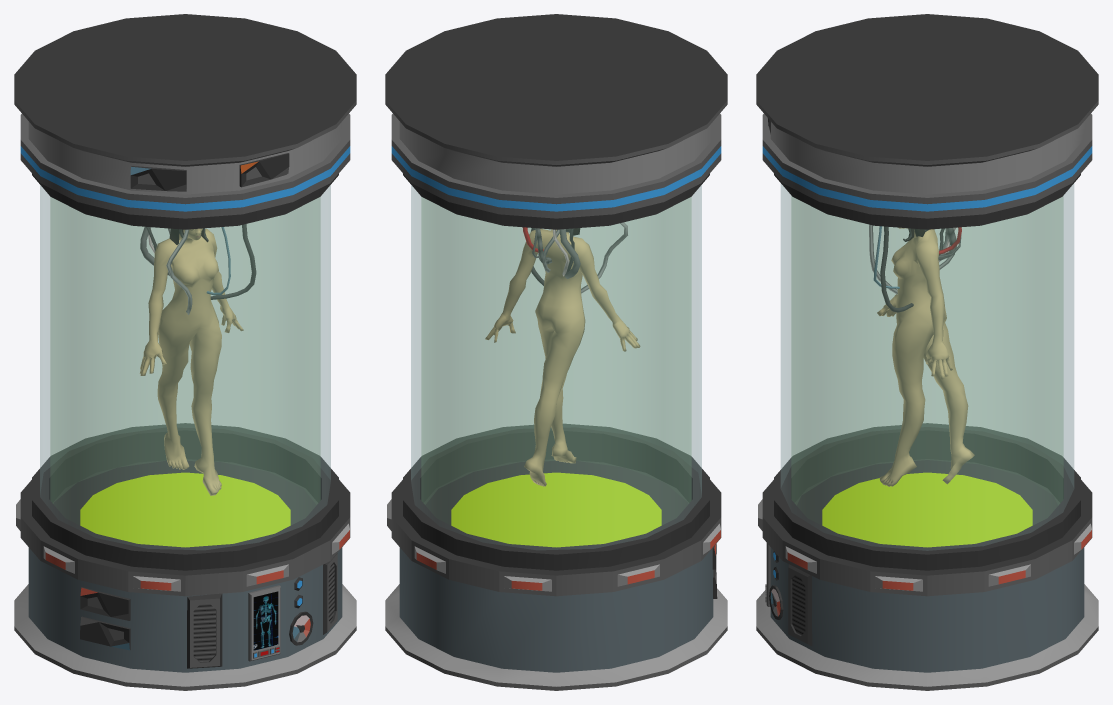
Rendered from Human_Tank_1.fbx.
3 renders of one model, left to right at view 1: azimuth 30°, elevation 25°; view 2: azimuth 150°, elevation 25°; view 3: azimuth 270°, elevation 25°, orthographic.
Visible parts, largest first — view 1: Human_Tank_1, Human1; view 2: Human_Tank_1, Human1; view 3: Human_Tank_1, Human1.
Boxes of the visible parts, x1=… form: Human_Tank_1: x1=14, y1=14, x2=356, y2=690; Human1: x1=140, y1=224, x2=256, y2=495; Human_Tank_1: x1=385, y1=14, x2=727, y2=690; Human1: x1=485, y1=222, x2=640, y2=486; Human_Tank_1: x1=756, y1=14, x2=1098, y2=690; Human1: x1=869, y1=225, x2=974, y2=486.
Bounding box in the file's own units: 221 × 372 × 218.
